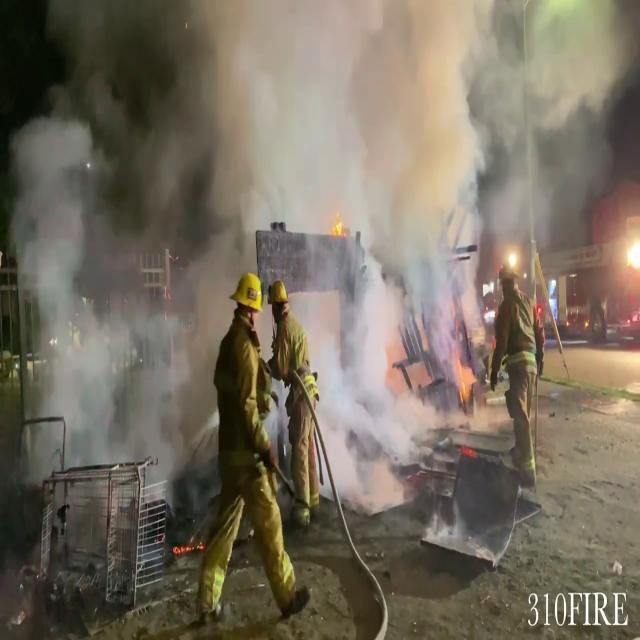Fire: (454, 349, 476, 404), (621, 227, 640, 278)
Smoke: (4, 0, 480, 499), (449, 1, 640, 240)
